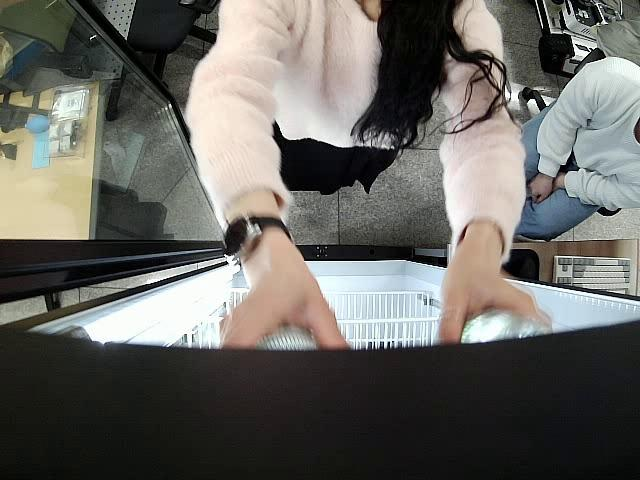18_trevi: (458, 306, 560, 344)
